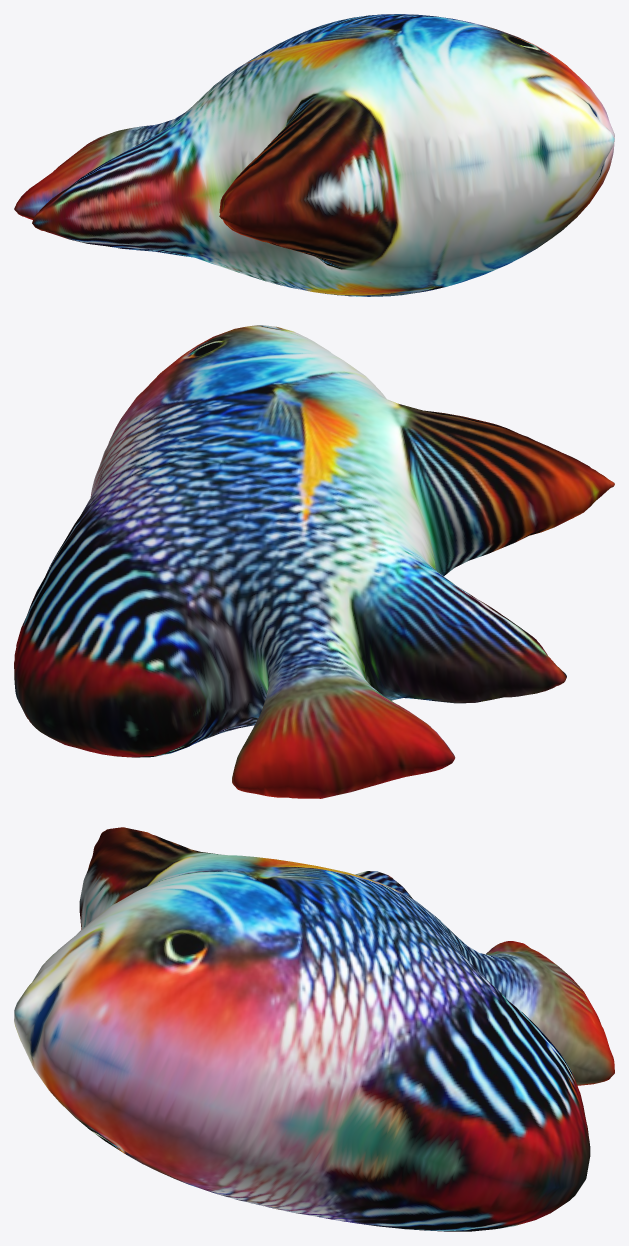
Rendered from Fish.fbx.
The picture shows the model from 3 angles, top to bottom: view 1: azimuth 30°, elevation 25°; view 2: azimuth 150°, elevation 25°; view 3: azimuth 270°, elevation 25°; orthographic projection. The views are drawn at different scales.
Visible parts, largest first — view 1: mm_frame (19); view 2: mm_frame (19); view 3: mm_frame (19).
Part boxes in pixels (<box>): mm_frame (19): <box>14,14,614,296</box>; mm_frame (19): <box>14,325,614,798</box>; mm_frame (19): <box>14,827,614,1231</box>.
Bounding box in the file's own units: 34.23 × 19 × 32.06.
1 material, 1 textured.
